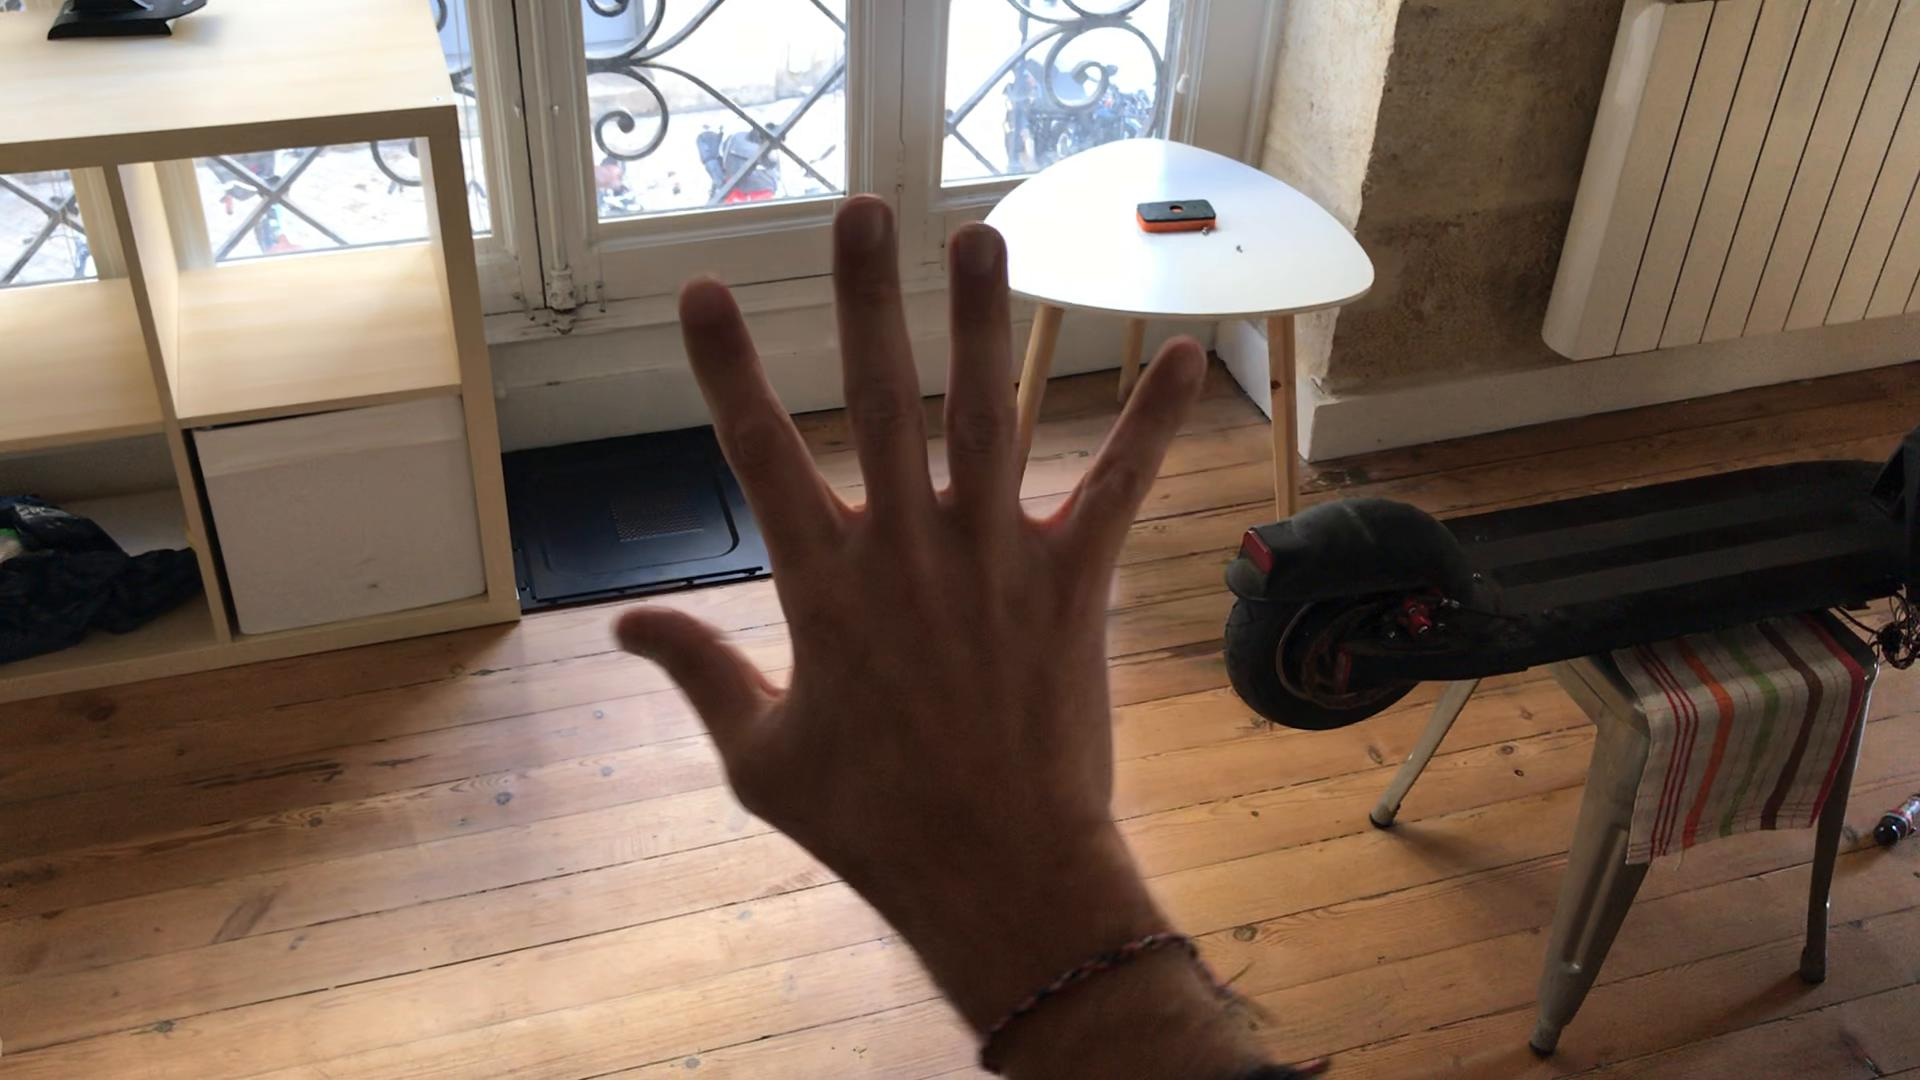hand: (605, 189, 1205, 858)
